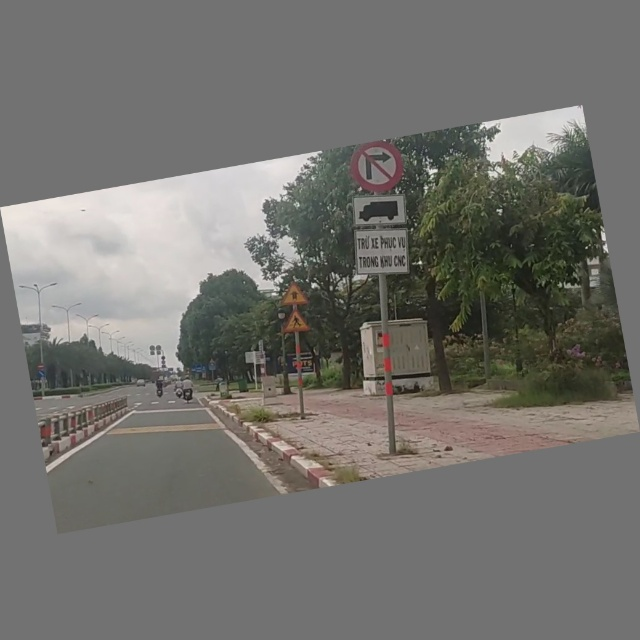P.123b: (347, 139, 408, 199)
S.505a*Xe tai: (342, 188, 416, 281)
W.207: (277, 280, 311, 309)
W.224: (278, 308, 311, 336)
